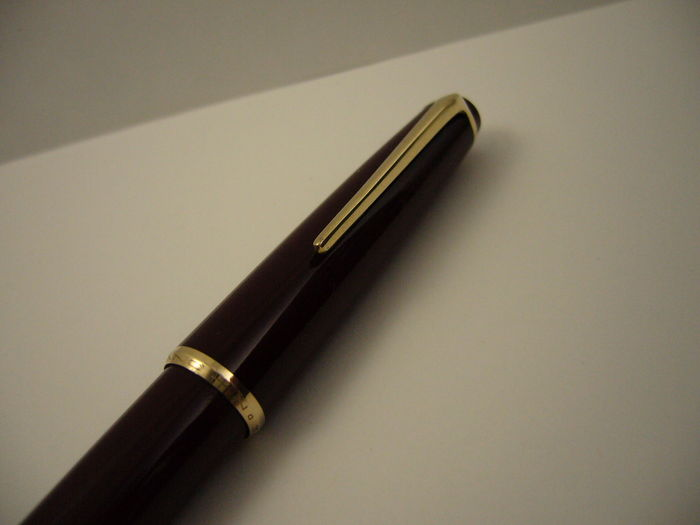pen: (19, 90, 484, 525)
